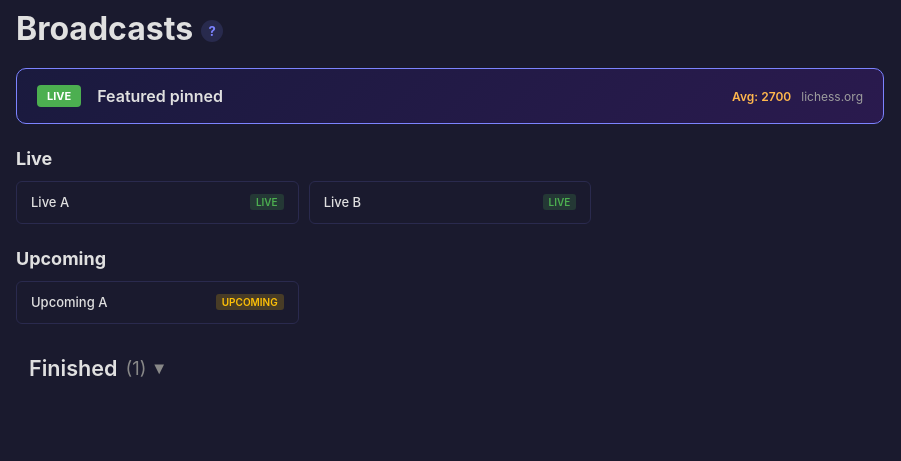
Test: BroadcastsPage KS-1700 sections › рендерит секции Featured, Live, Upcoming, Finished и бейджи соответствующие lifecycleStatus
Expected: the element with test id "broadcasts-featured" shows "Featured pinned", [16, 68, 884, 124]
Expected: the element with test id "broadcasts-featured" shows "LIVE", [16, 68, 884, 124]
// После клика разворачивается
Click the button with class "broadcasts-finished-toggle" at (96, 368), box [16, 348, 176, 389]
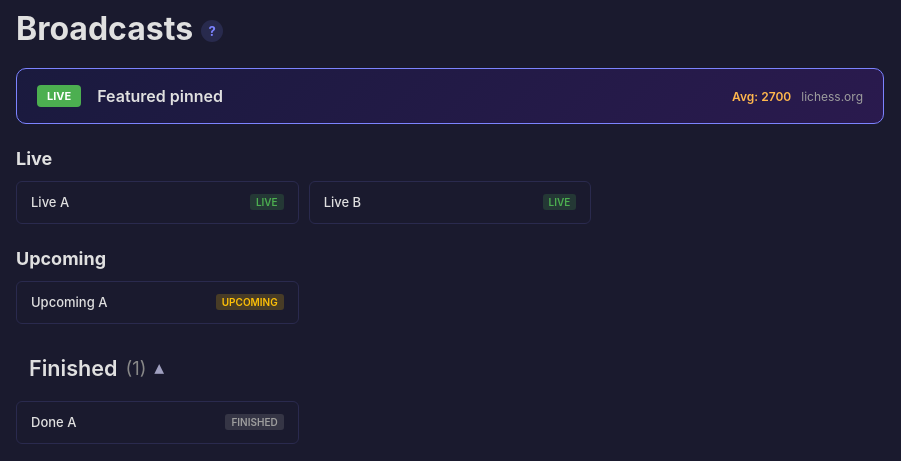
Expected: the element with test id "broadcasts-finished-grid" shows "Done A", [16, 401, 299, 444]
Expected: the number of elements with class "broadcast-lichess-status--finished" is 1, [225, 414, 284, 430]
